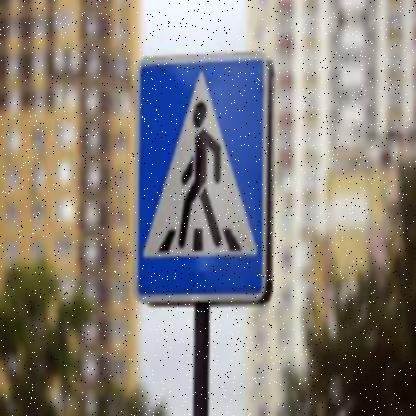Pedestrian Crossing: (141, 67, 262, 286)
